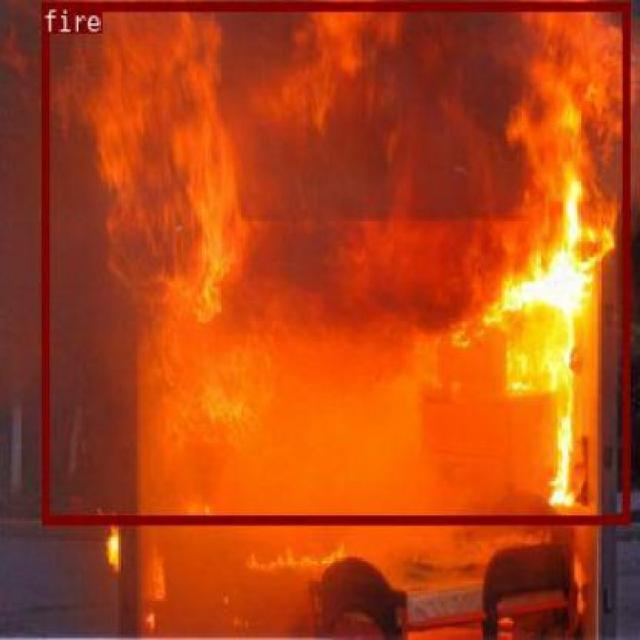Fire: (40, 0, 628, 522)
